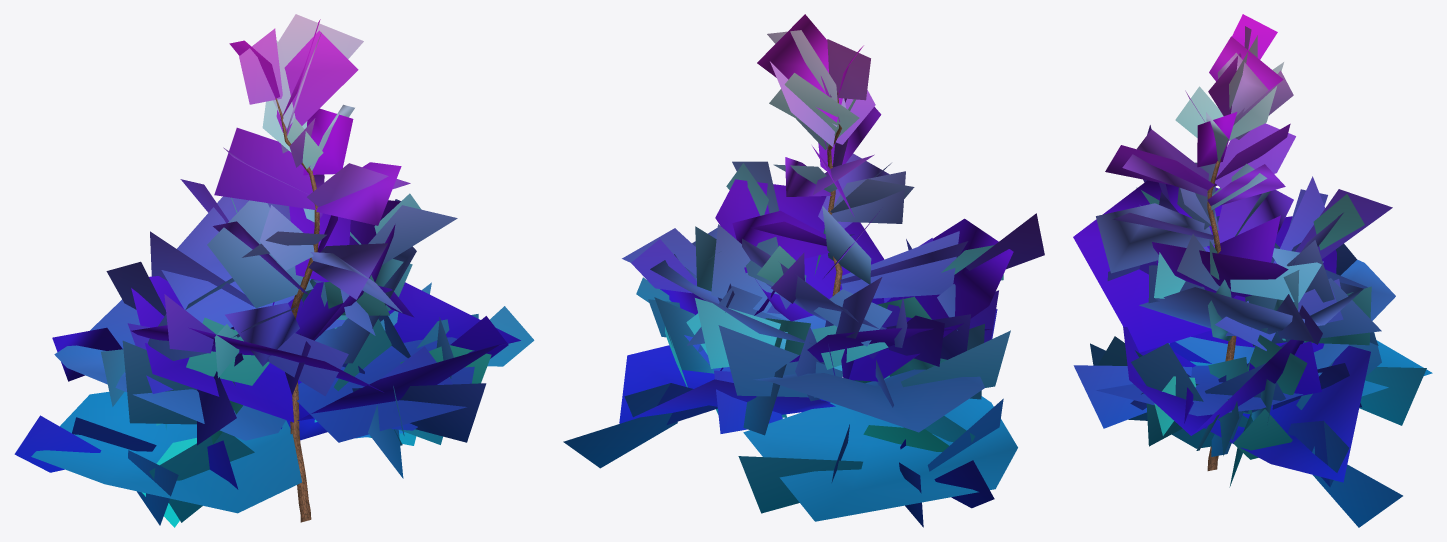
The model's file is PineSapling.fbx.
3 renders of one model, left to right at view 1: azimuth 30°, elevation 25°; view 2: azimuth 150°, elevation 25°; view 3: azimuth 270°, elevation 25°, orthographic. The views are drawn at different scales.
Visible parts, largest first — view 1: PineSapling_LOD0; view 2: PineSapling_LOD0; view 3: PineSapling_LOD0.
Part boxes in pixels (x1=…): PineSapling_LOD0: x1=14, y1=14, x2=534, y2=527; PineSapling_LOD0: x1=563, y1=14, x2=1044, y2=527; PineSapling_LOD0: x1=1073, y1=14, x2=1432, y2=527.
Size of what is drawn, in the model's own units: 1.45 by 1.5 by 1.1.
